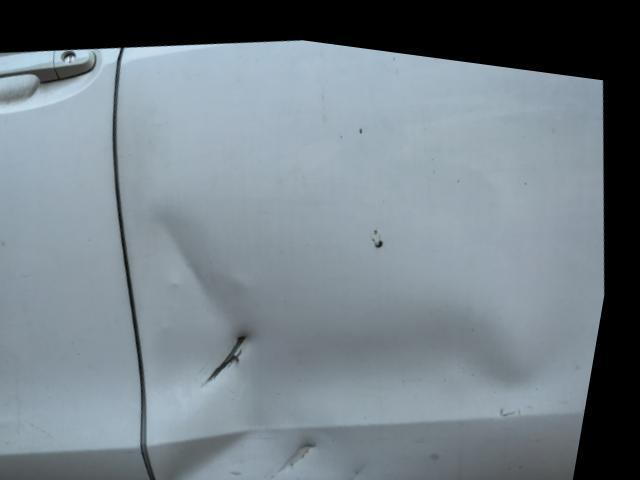dent: (149, 203, 611, 480)
